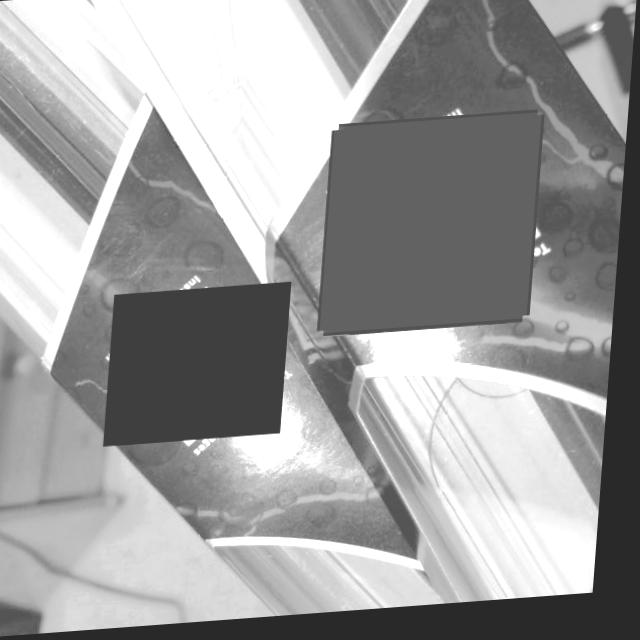qr_code: (325, 120, 544, 338), (110, 285, 296, 448)
